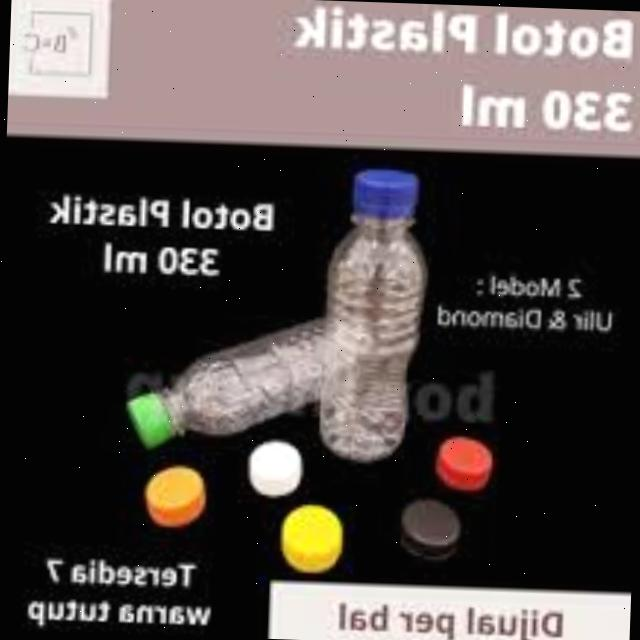trash: (118, 304, 378, 466), (312, 164, 440, 470)
